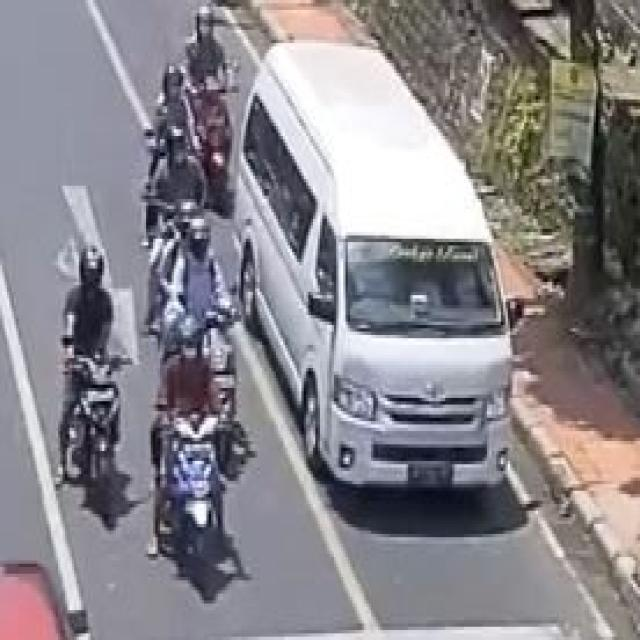car: (233, 40, 522, 526), (0, 557, 93, 640)
motorbike: (48, 220, 136, 526), (159, 333, 221, 584), (196, 10, 236, 204)
